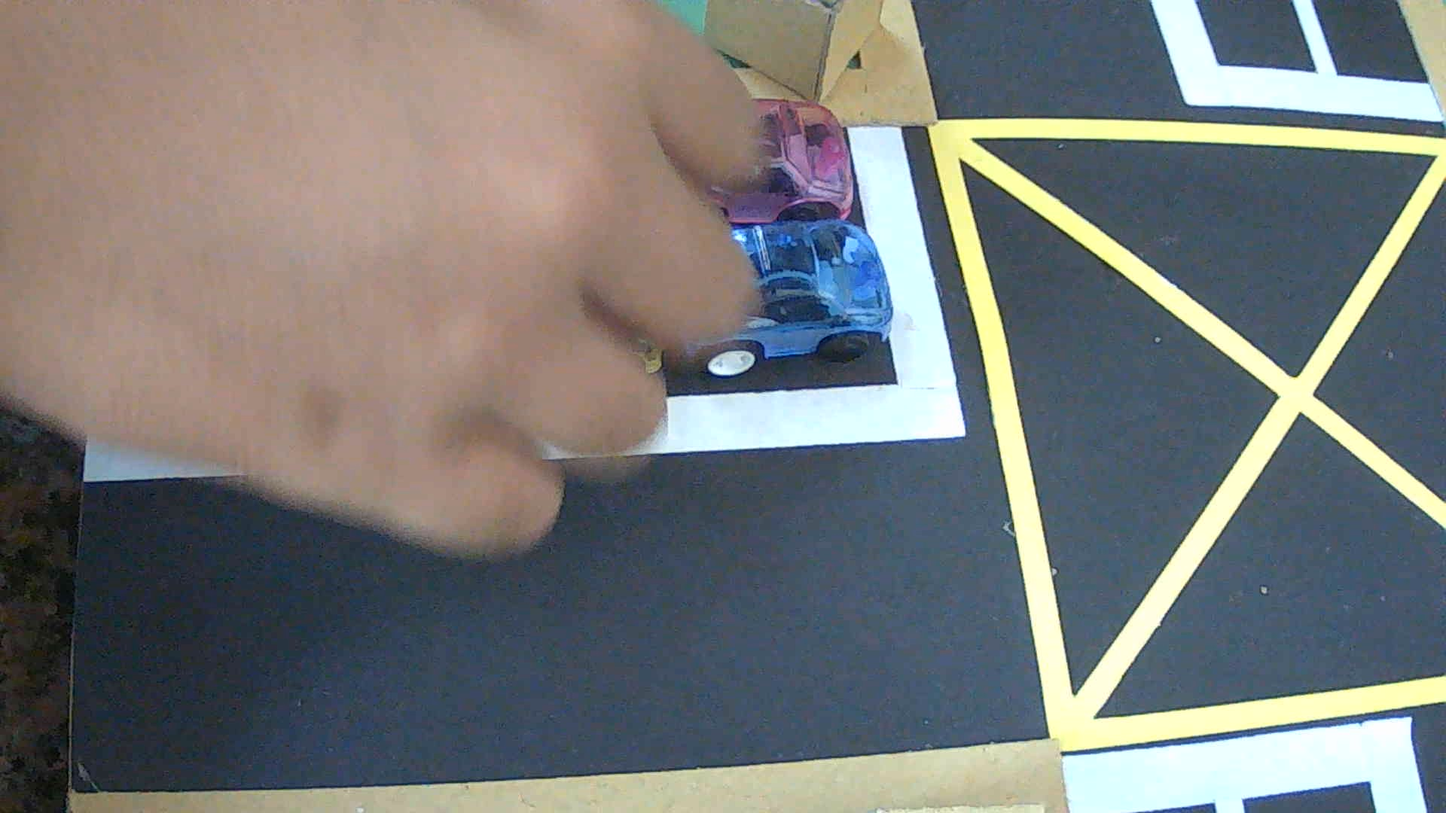Mobil biru: (684, 219, 892, 377)
Mobil ungu: (712, 99, 853, 224)
